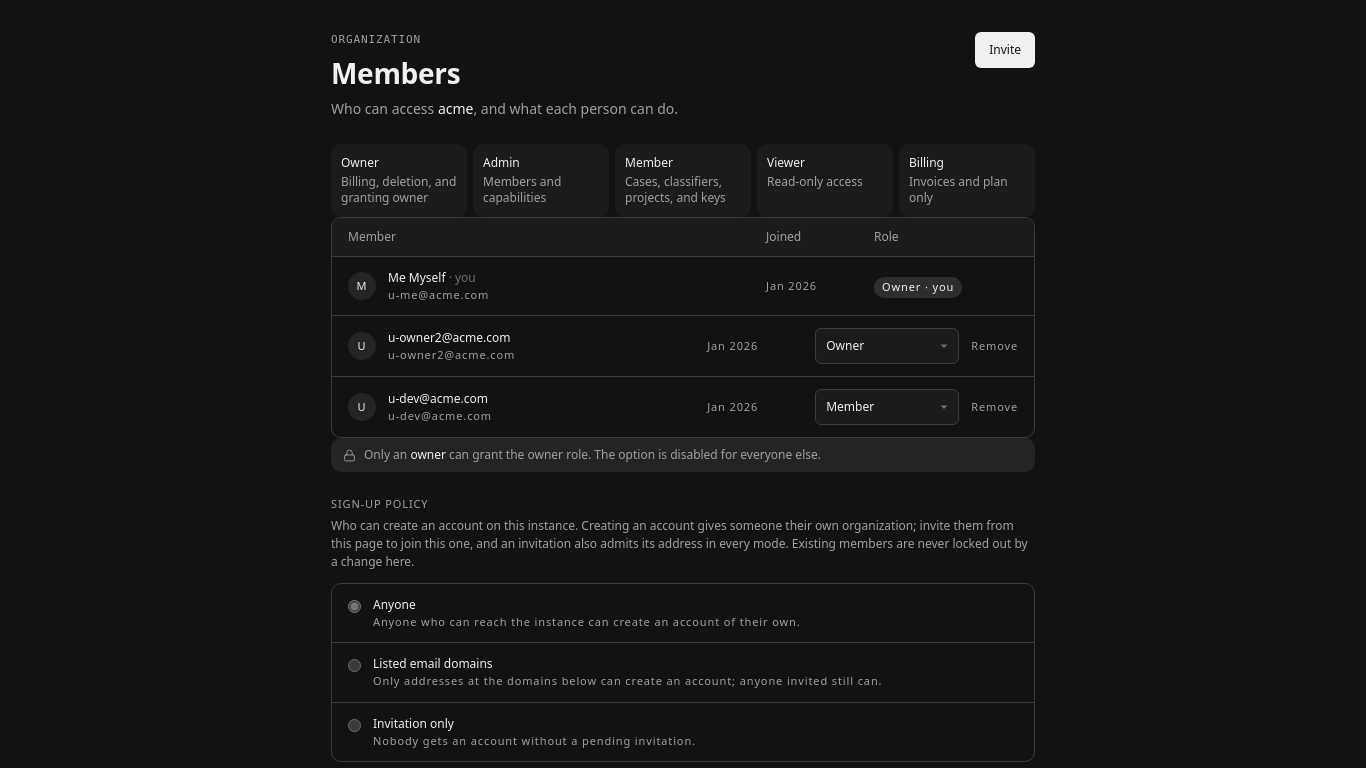
Test: as an owner › removes nobody when the confirmation is declined, and says why a change was refused
Click the 2nd button "Remove" at point(995, 407), box [971,399,1018,416]
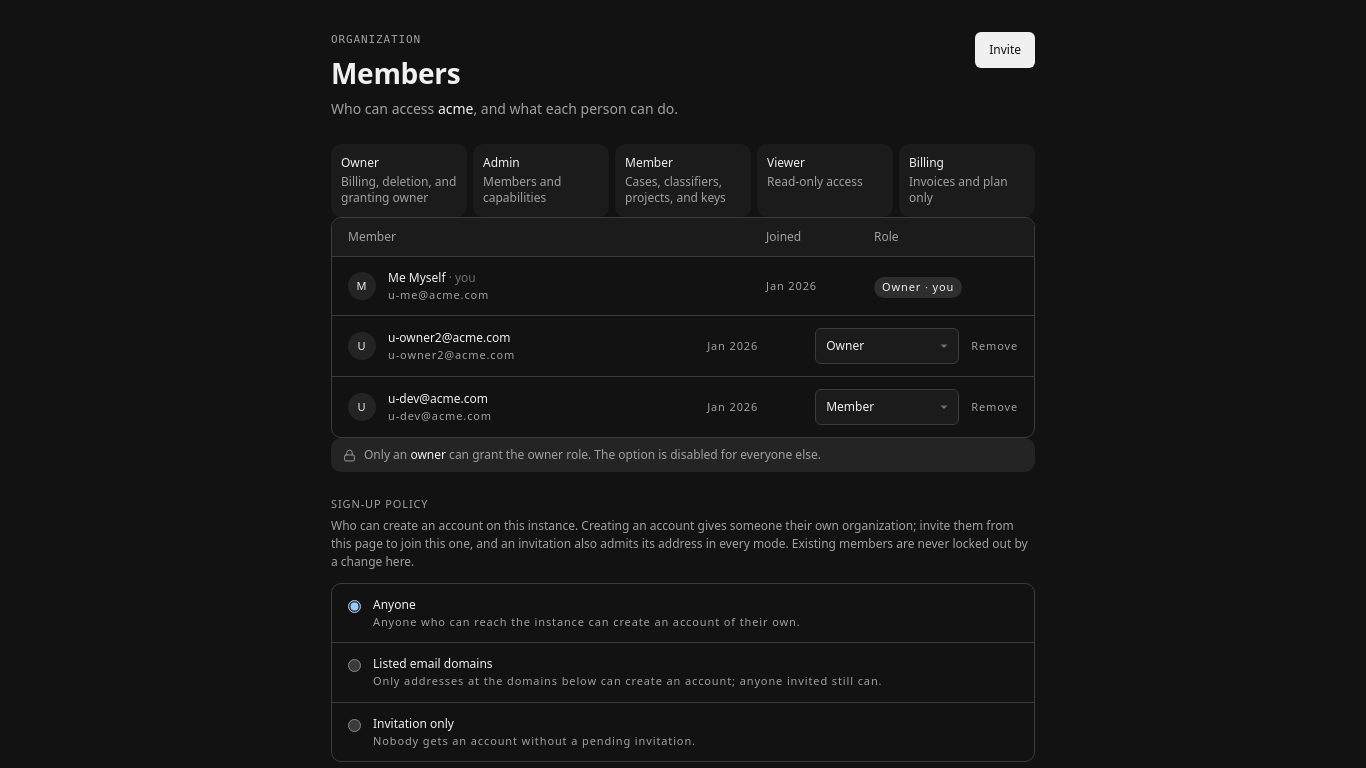
Select "Viewer" in the 2nd dropdown at point(887, 408), box [815,390,959,426]
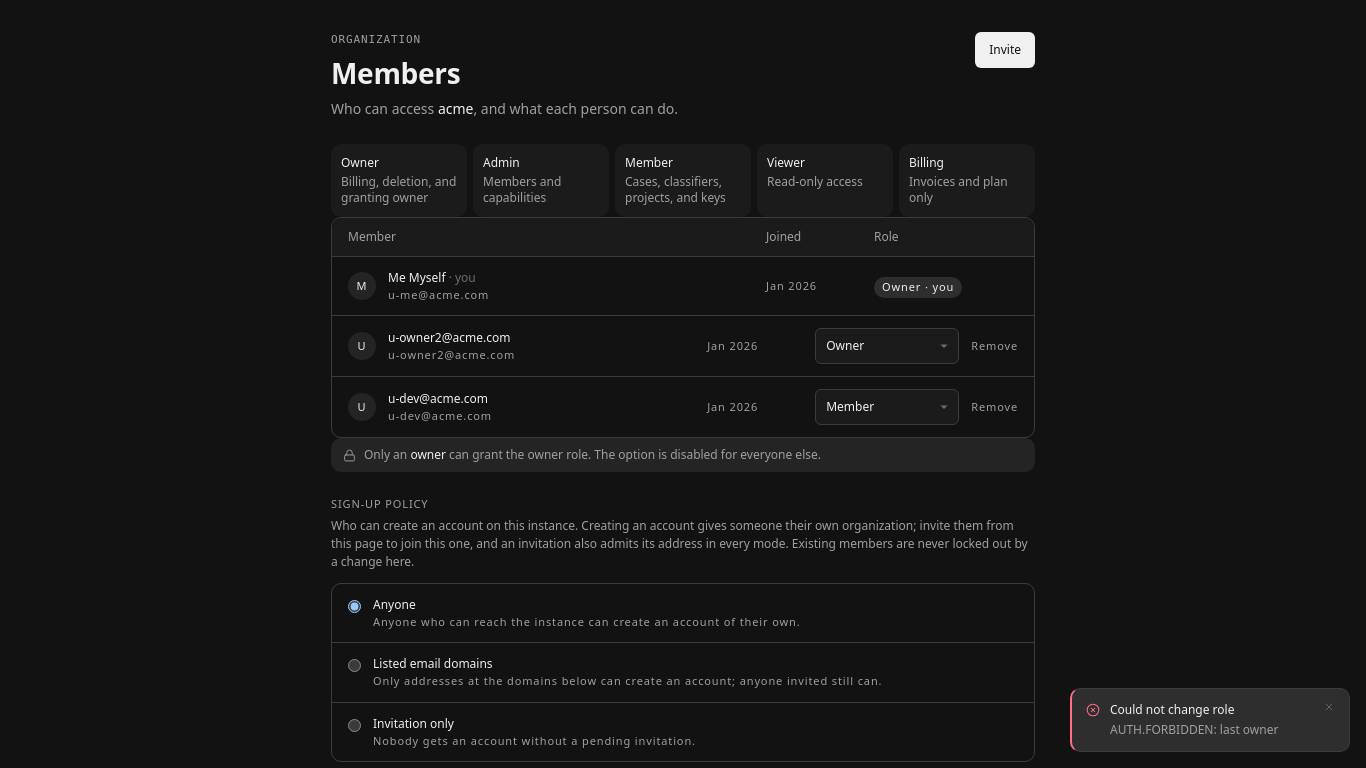
Result: the text "Could not change role" is shown at [1110,701,1234,718]
Result: the text "AUTH.FORBIDDEN: last owner" is shown at [1110,721,1278,738]
Click the 2nd button "Remove" at point(995, 407), box [971,399,1018,416]
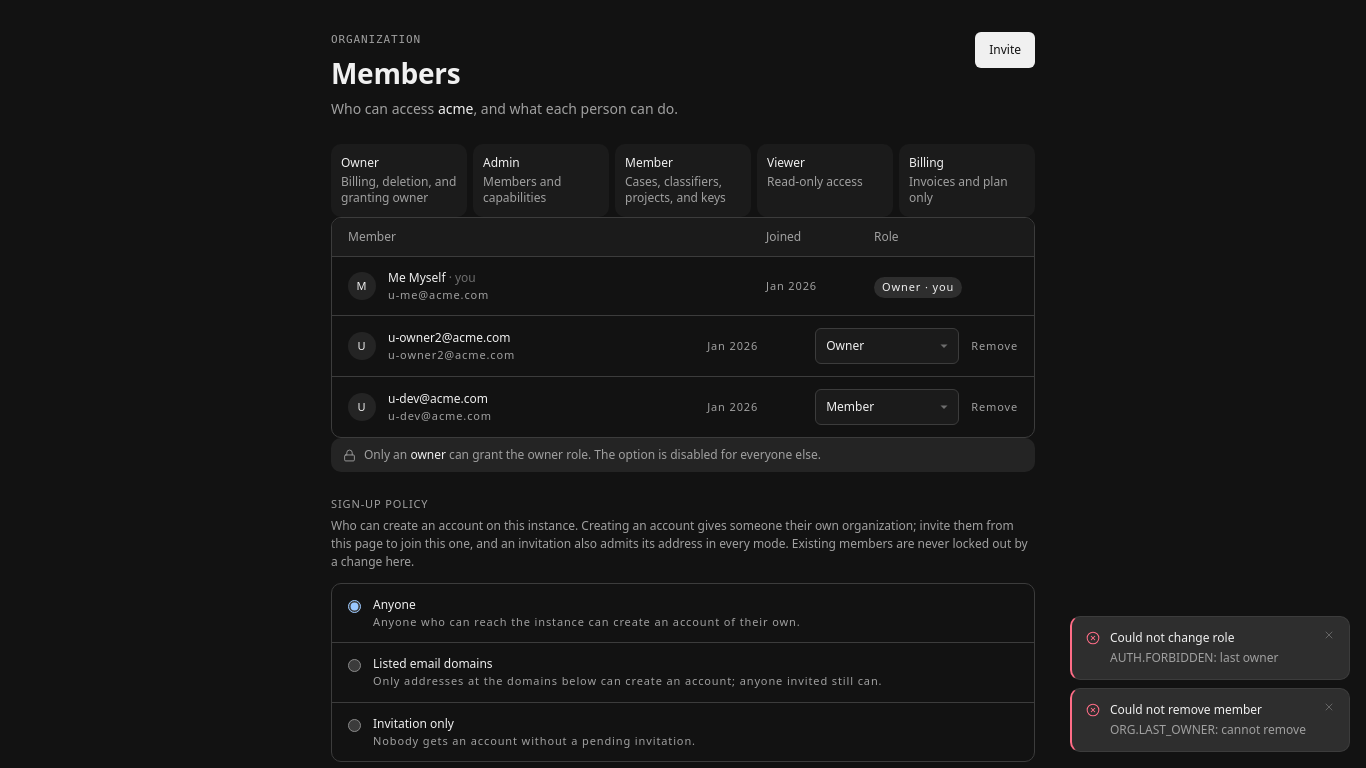
Result: the text "Could not remove member" is shown at [1110,701,1262,718]
